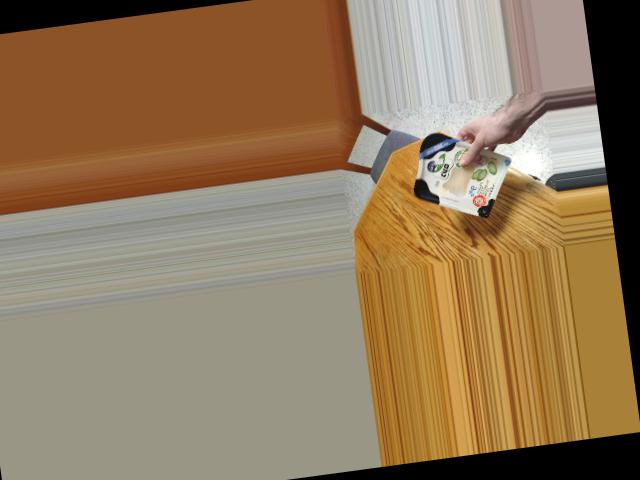cheese: (405, 119, 507, 221)
